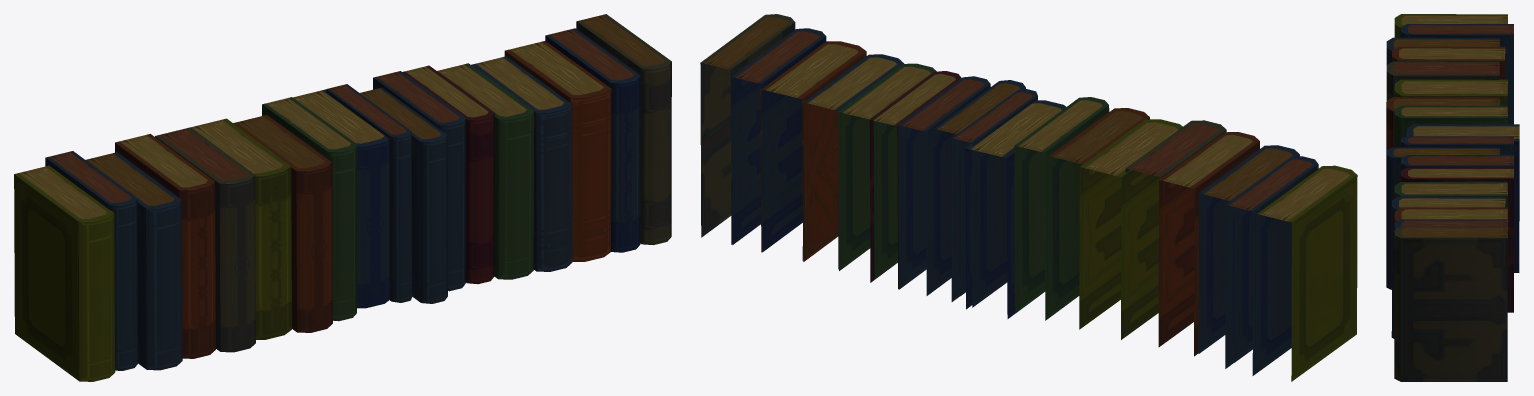
File: prop_bookgroup_medium_3.glb
3 views of the same model, side by side, from view 1: azimuth 30°, elevation 25°; view 2: azimuth 150°, elevation 25°; view 3: azimuth 270°, elevation 25° (orthographic). The views are drawn at different scales.
Visible parts, largest first — view 1: BookGroup_Medium_3; view 2: BookGroup_Medium_3; view 3: BookGroup_Medium_3.
Boxes of the visible parts, x1,y1,x2,y2 form: BookGroup_Medium_3: (14, 14, 671, 381); BookGroup_Medium_3: (700, 14, 1357, 381); BookGroup_Medium_3: (1386, 14, 1519, 381).
Size of the model in its own units: 1.04 by 0.2949 by 0.2475.
Materials: 1 (1 with a texture image).
